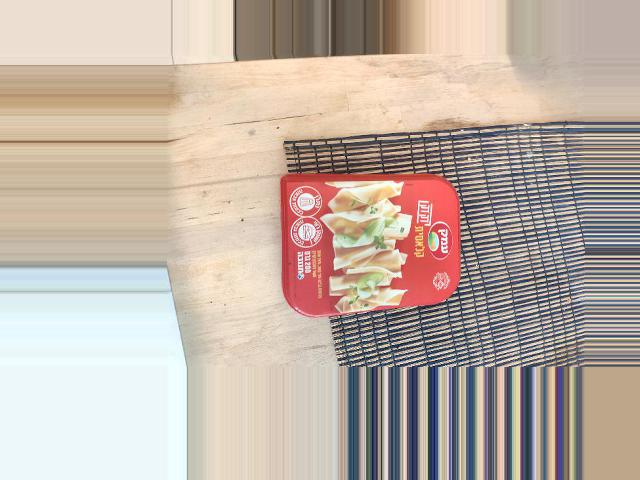cheese: (402, 170, 528, 358)
